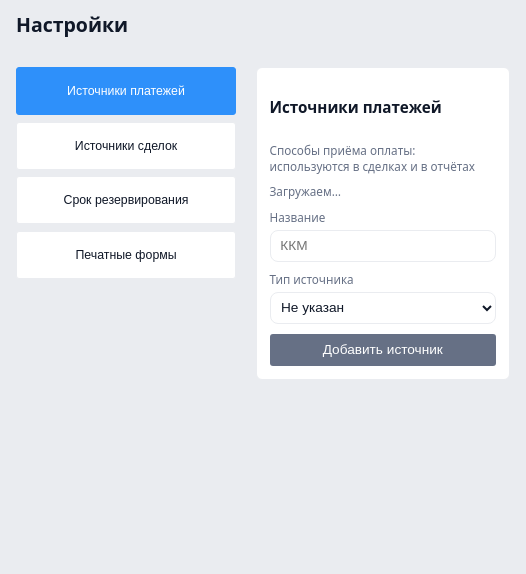
Test: срок резервирования в настройках › сохраняет новый срок и показывает его склонённым
Click the button "Срок резервирования" at (126, 200), box x1=16 y1=176 x2=236 y2=224
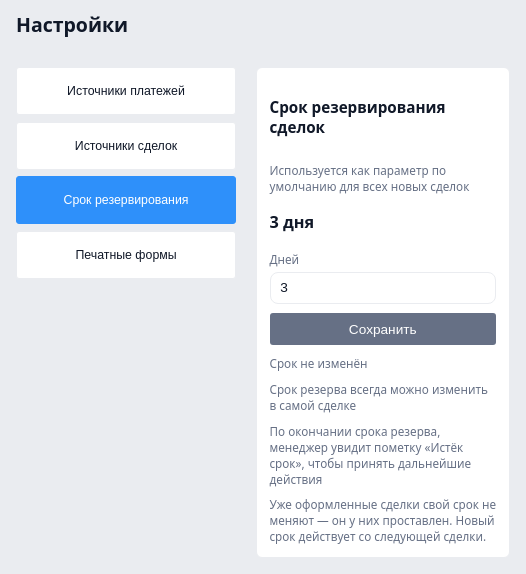
Expected: the text "3 дня" is shown, x1=270 y1=211 x2=314 y2=233
Replace the text in the number field labelled "Дней" with "1" at (383, 288), box x1=270 y1=272 x2=496 y2=304
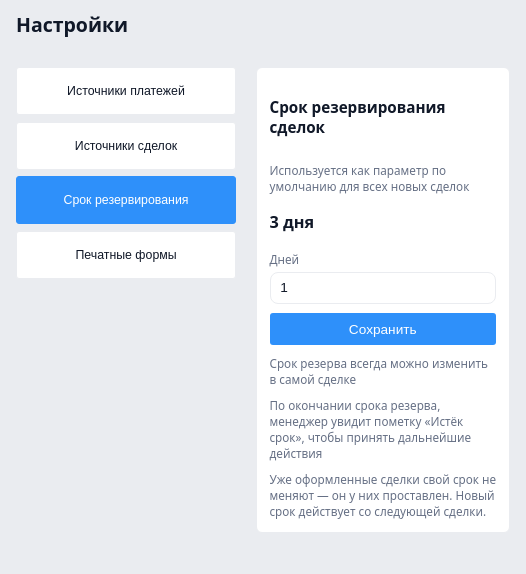
Click the button "Сохранить" at (383, 329), box x1=270 y1=313 x2=496 y2=345
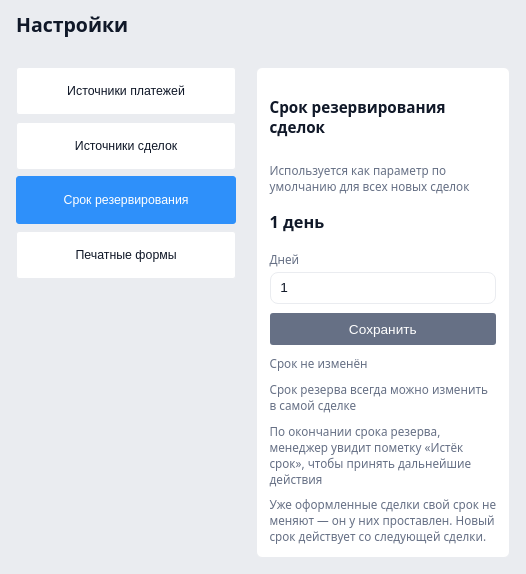
Expected: the text "1 день" is shown, x1=270 y1=211 x2=324 y2=233
